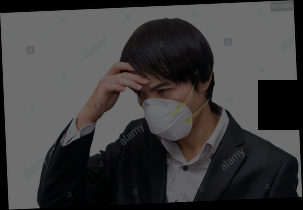with_mask: (138, 79, 203, 142)
